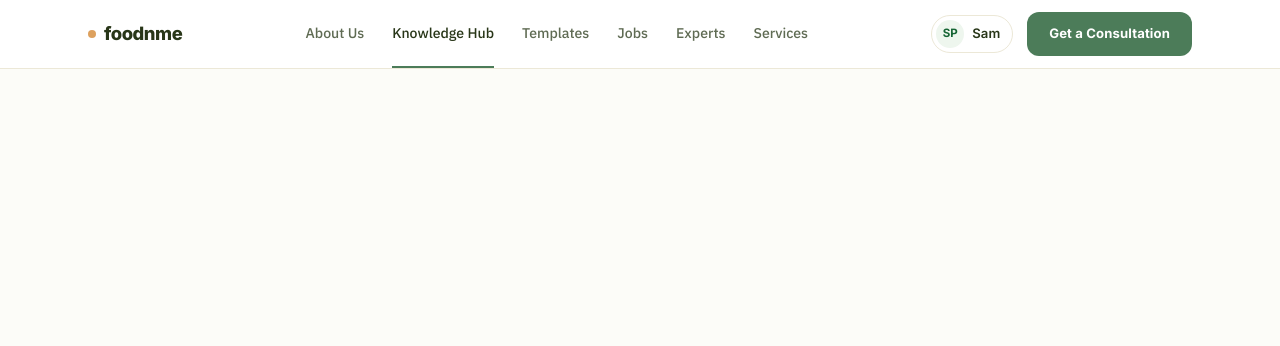
Test: Navbar auth region (story-homepage-09) › signed in: account button + dropdown with name, email, role, Dashboard, Sign out (AC#2,3)
The width and height of the screenshot is (1280, 346).
Step 1. Click the button with aria-label "Account menu" → (972, 34), box [931,15,1013,53]
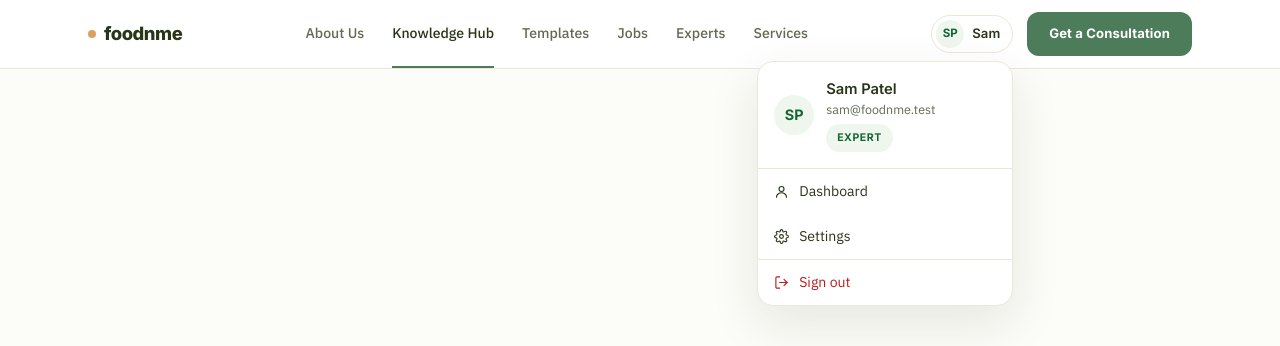
Expected: the text "Sam Patel" is shown, [826,80,897,98]
Expected: the text "sam@foodnme.test" is shown, [826,100,935,119]
Expected: the text "Expert" is shown, [826,124,893,152]
